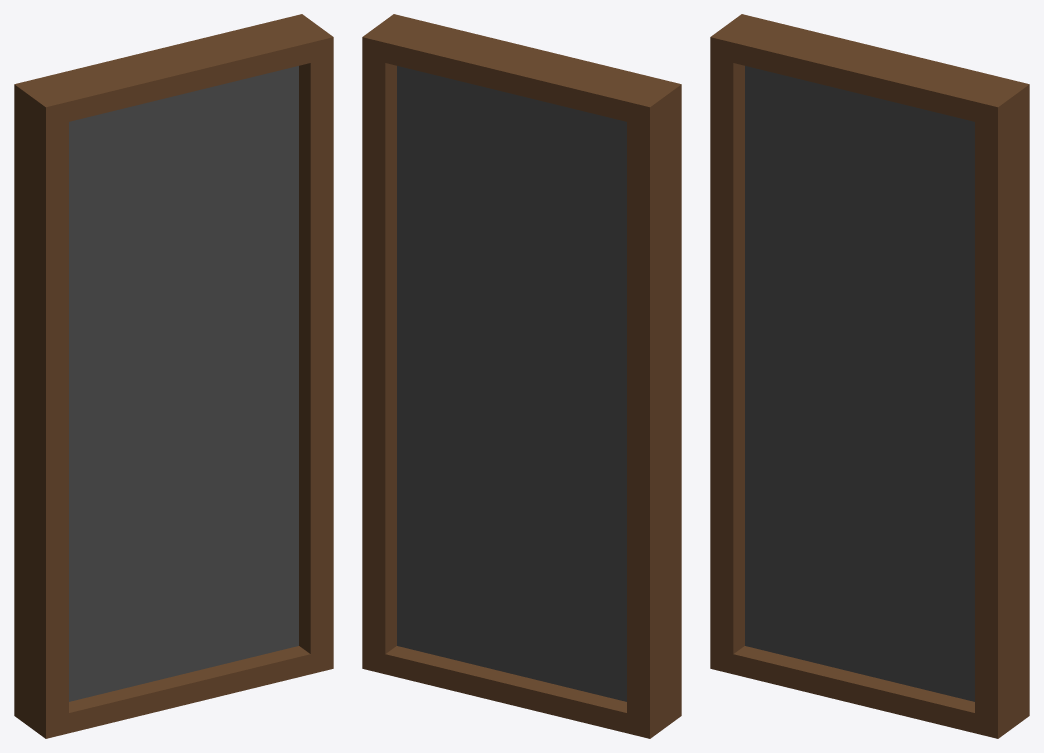
Rendered from Door_04.fbx.
The picture shows the model from 3 angles, left to right: view 1: azimuth 30°, elevation 25°; view 2: azimuth 150°, elevation 25°; view 3: azimuth 330°, elevation 25°; orthographic projection.
Parts seen in each view (by area): view 1: Door_04; view 2: Door_04; view 3: Door_04.
Part boxes in pixels (<box>): Door_04: <box>14,14,333,738</box>; Door_04: <box>362,14,681,738</box>; Door_04: <box>710,14,1029,738</box>.
Size of the model in its own units: 93 by 195 by 17.66.
1 material, 1 textured.
